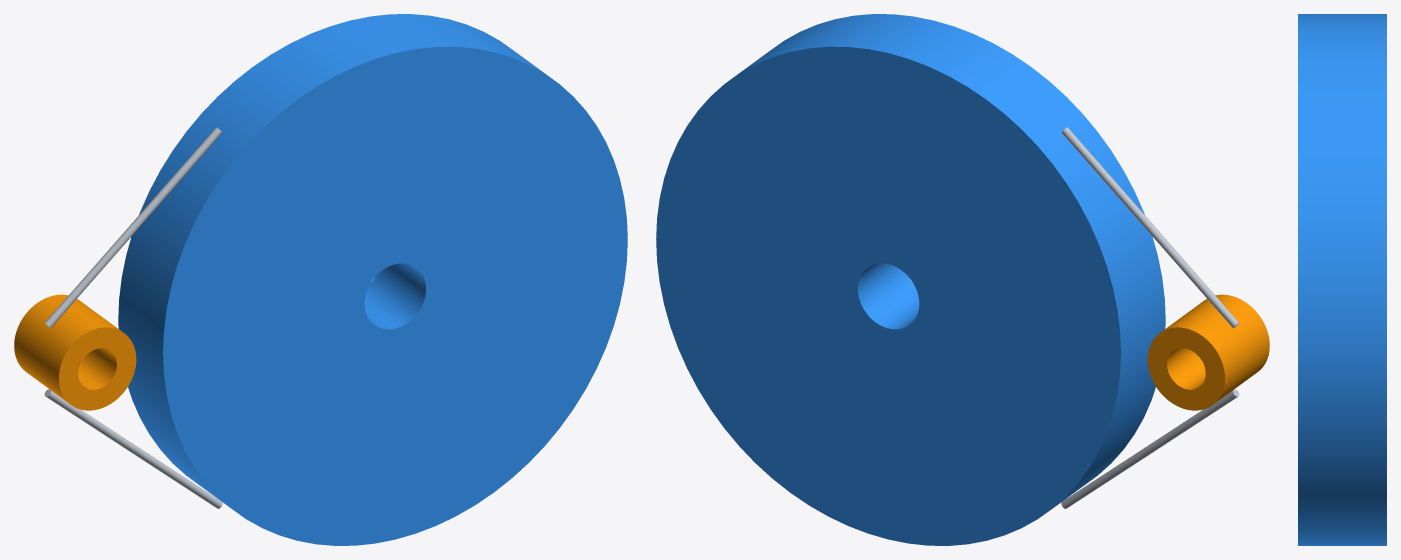
Rendered from assembly.glb.
The picture shows the model from 3 angles, left to right: view 1: azimuth 30°, elevation 25°; view 2: azimuth 150°, elevation 25°; view 3: azimuth 270°, elevation 25°; orthographic projection.
Visible parts, largest first — view 1: capstan-r8-R48/driven-drum, capstan-r8-R48/capstan-drum, capstan-r8-R48/cable-strand-1, capstan-r8-R48/cable-strand-2; view 2: capstan-r8-R48/driven-drum, capstan-r8-R48/capstan-drum, capstan-r8-R48/cable-strand-1, capstan-r8-R48/cable-strand-2; view 3: capstan-r8-R48/driven-drum.
Part boxes in pixels (box(x1,y1,x2,y2)): capstan-r8-R48/driven-drum: box(118, 14, 627, 545); capstan-r8-R48/capstan-drum: box(14, 294, 136, 410); capstan-r8-R48/cable-strand-1: box(45, 127, 222, 328); capstan-r8-R48/cable-strand-2: box(44, 389, 222, 508); capstan-r8-R48/driven-drum: box(656, 14, 1165, 545); capstan-r8-R48/capstan-drum: box(1147, 294, 1269, 410); capstan-r8-R48/cable-strand-1: box(1061, 127, 1238, 328); capstan-r8-R48/cable-strand-2: box(1061, 389, 1239, 508); capstan-r8-R48/driven-drum: box(1298, 14, 1386, 545).
Bounding box in the file's own units: 0.1175 × 0.096 × 0.016.
